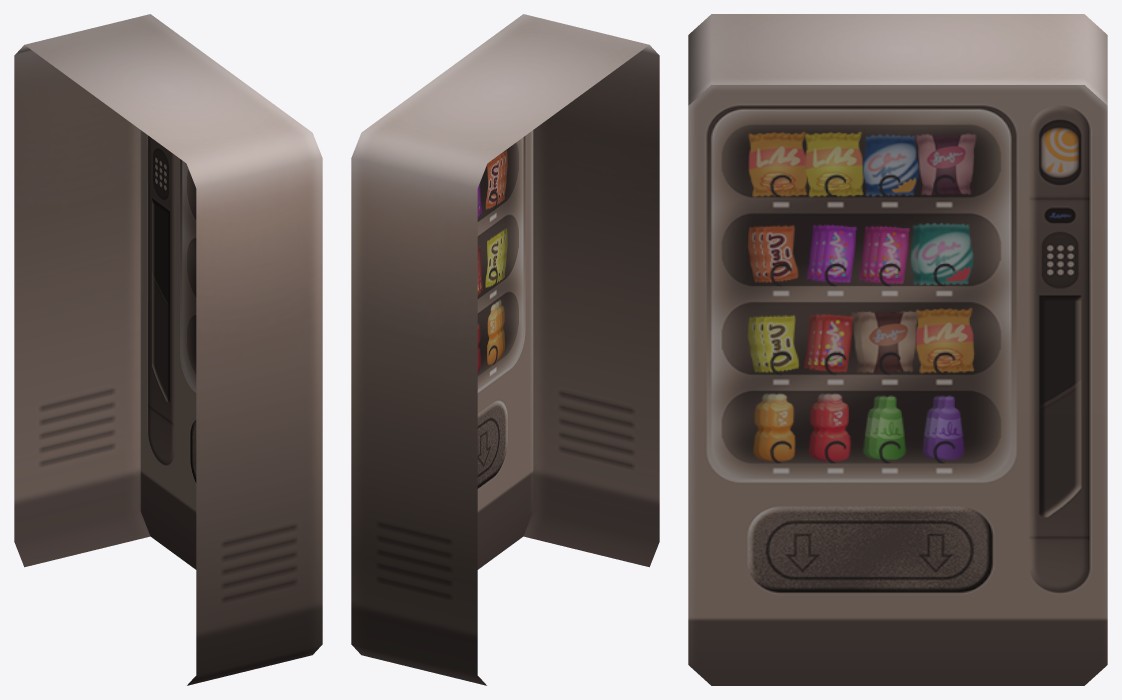
The model's file is corridor_object_vendingmachine.FBX.
3 views of the same model, side by side, from view 1: azimuth 30°, elevation 25°; view 2: azimuth 150°, elevation 25°; view 3: azimuth 270°, elevation 25° (orthographic). The views are drawn at different scales.
Visible parts, largest first — view 1: Object001; view 2: Object001; view 3: Object001.
Boxes of the visible parts, left/top/right/bottom form: Object001: left=14, top=14, right=322, bottom=685; Object001: left=351, top=14, right=659, bottom=685; Object001: left=688, top=14, right=1107, bottom=685.
Bounding box in the file's own units: 171 × 678 × 428.
1 material, 1 textured.
